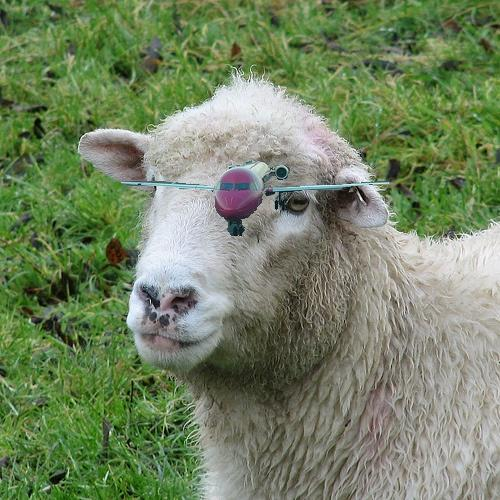tampered: (122, 161, 390, 236)
